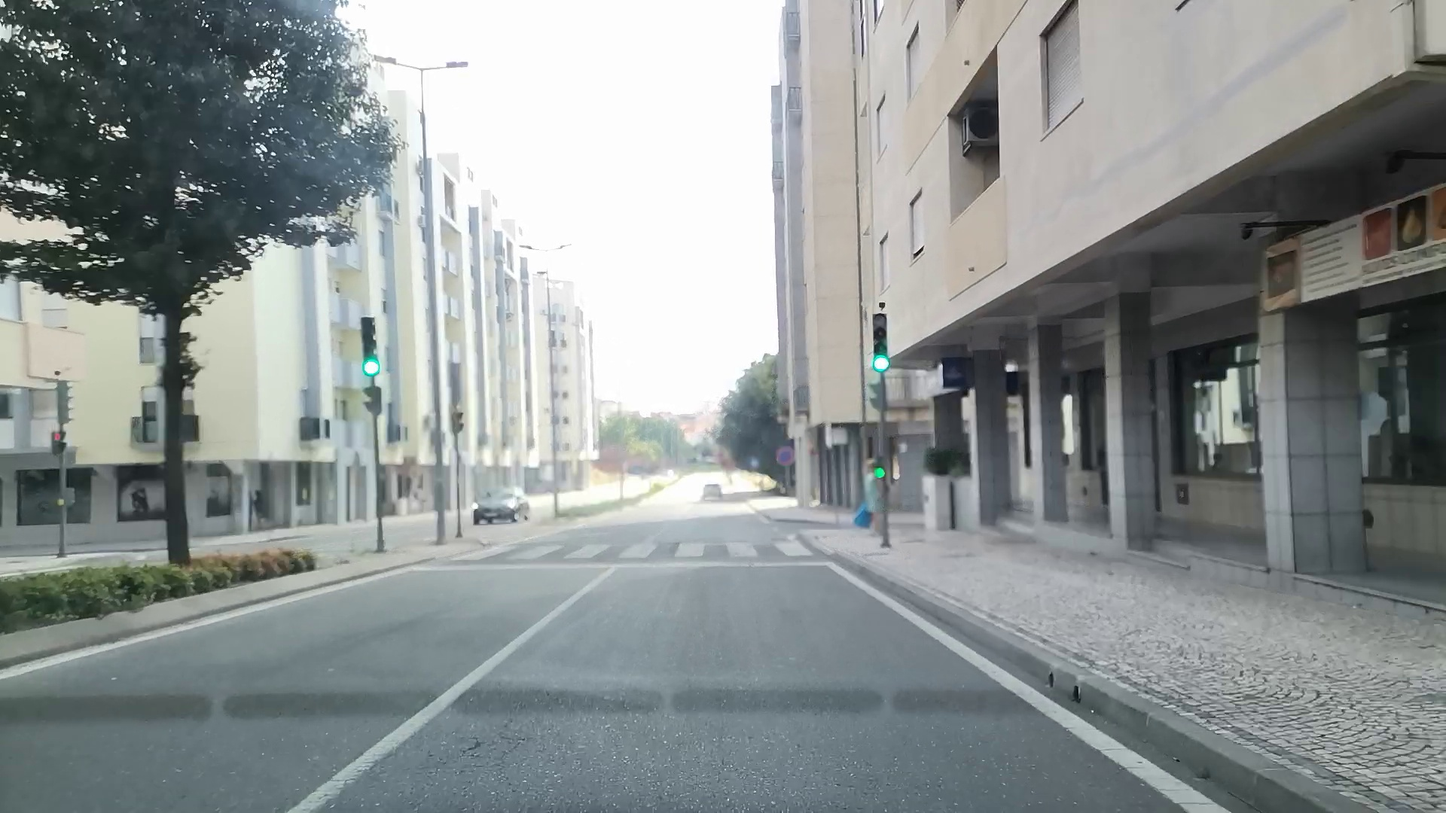Stairs: (454, 542, 812, 560)
